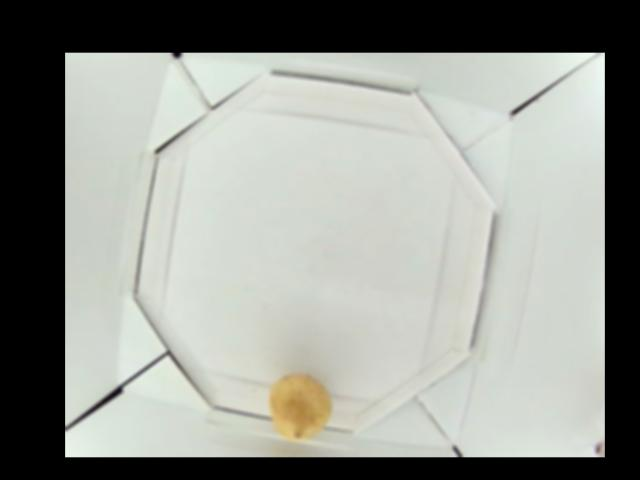Potato: (269, 373, 330, 441)
